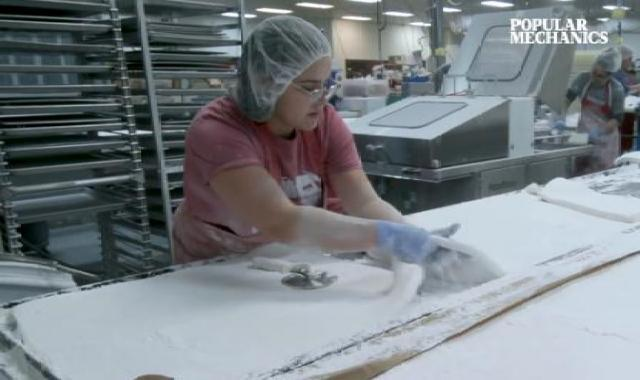hairnet: (230, 19, 344, 117)
